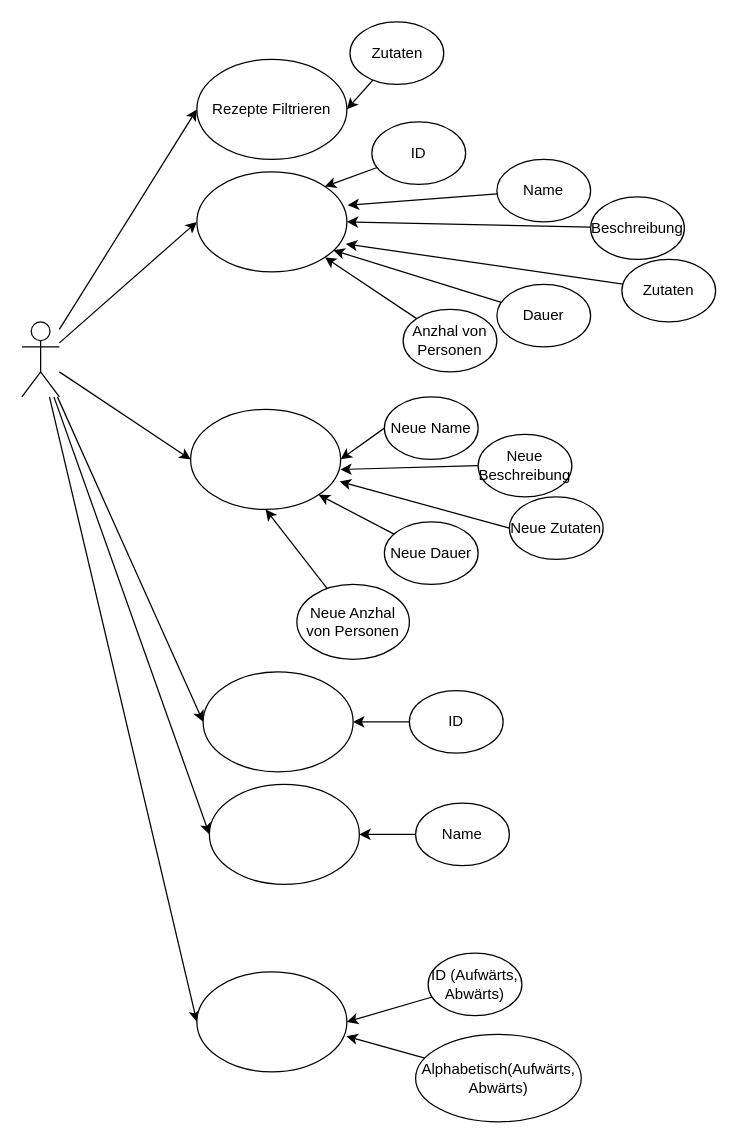
Some shapes in this 738 by 1144 pixel diagram are drawn without their labels. Here are the shapes that lost their labels. From the top down, the box of each, then its label:
(196, 171, 347, 272): Rezepte Einfügen
(21, 321, 59, 397): User
(189, 408, 341, 509): Rezepte Änderen
(202, 671, 353, 772): Rezepte Löschen
(208, 783, 359, 884): Rezepte Suchen
(196, 971, 347, 1072): Rezepte Sortieren
